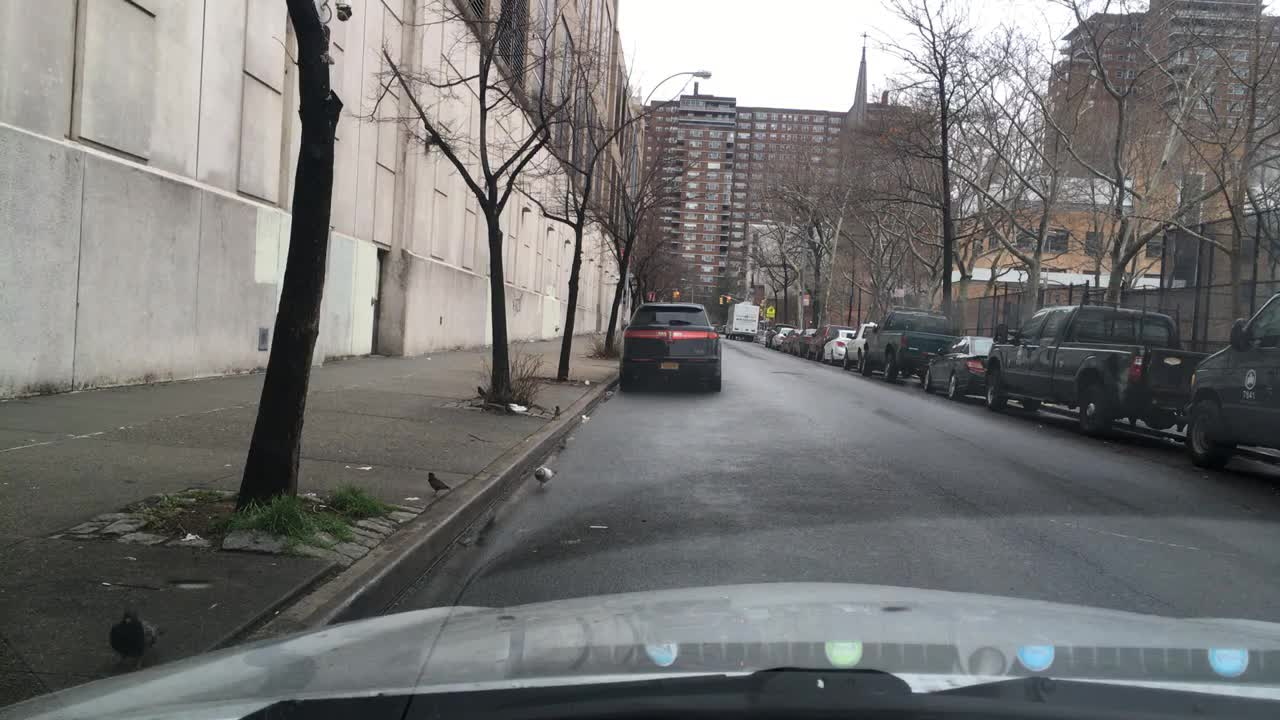car: (1183, 295, 1278, 469), (618, 302, 722, 396), (922, 334, 996, 395), (803, 324, 852, 360), (843, 320, 877, 370), (819, 326, 857, 363), (764, 322, 795, 348), (792, 326, 816, 356), (779, 324, 803, 351), (771, 325, 792, 348)
traffic sign: (764, 304, 775, 318), (800, 293, 809, 306)
truck: (984, 302, 1212, 440), (860, 306, 955, 382), (724, 301, 758, 337)
